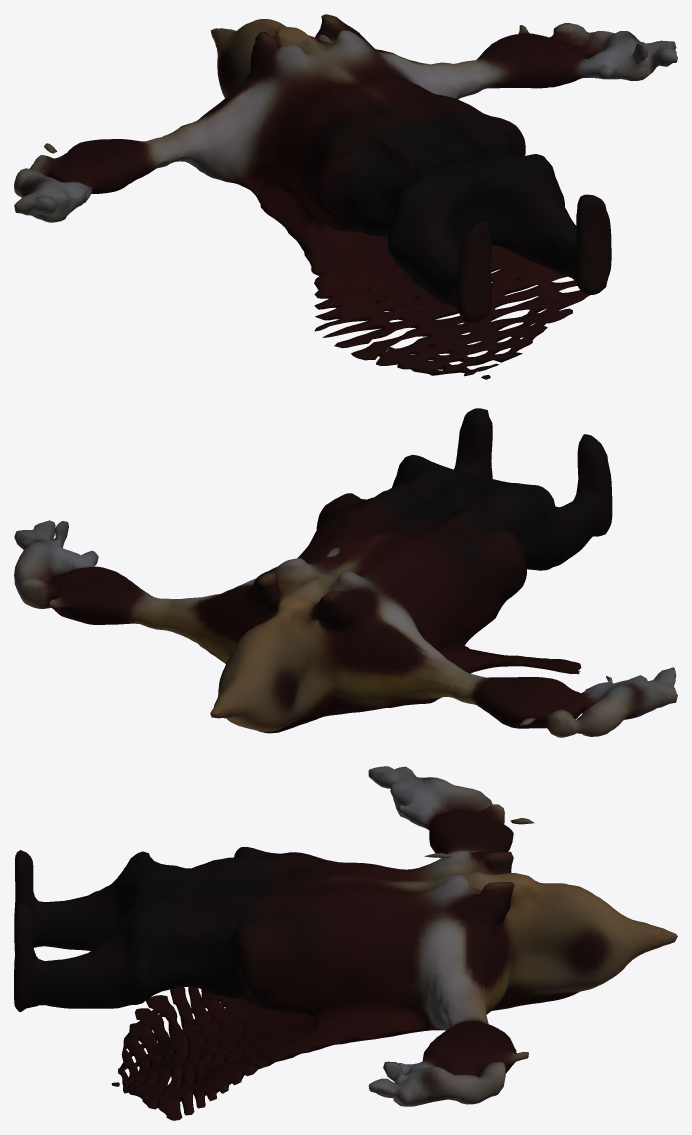
File: Viking.FBX
The picture shows the model from 3 angles, top to bottom: view 1: azimuth 30°, elevation 25°; view 2: azimuth 150°, elevation 25°; view 3: azimuth 270°, elevation 25°; orthographic projection. The views are drawn at different scales.
Parts seen in each view (by area): view 1: plyFile; view 2: plyFile; view 3: plyFile.
Part boxes in pixels (x1=…): plyFile: x1=14, y1=14, x2=677, y2=379; plyFile: x1=14, y1=408, x2=677, y2=737; plyFile: x1=14, y1=766, x2=677, y2=1120.
Bounding box in the file's own units: 197 × 64.65 × 168.
